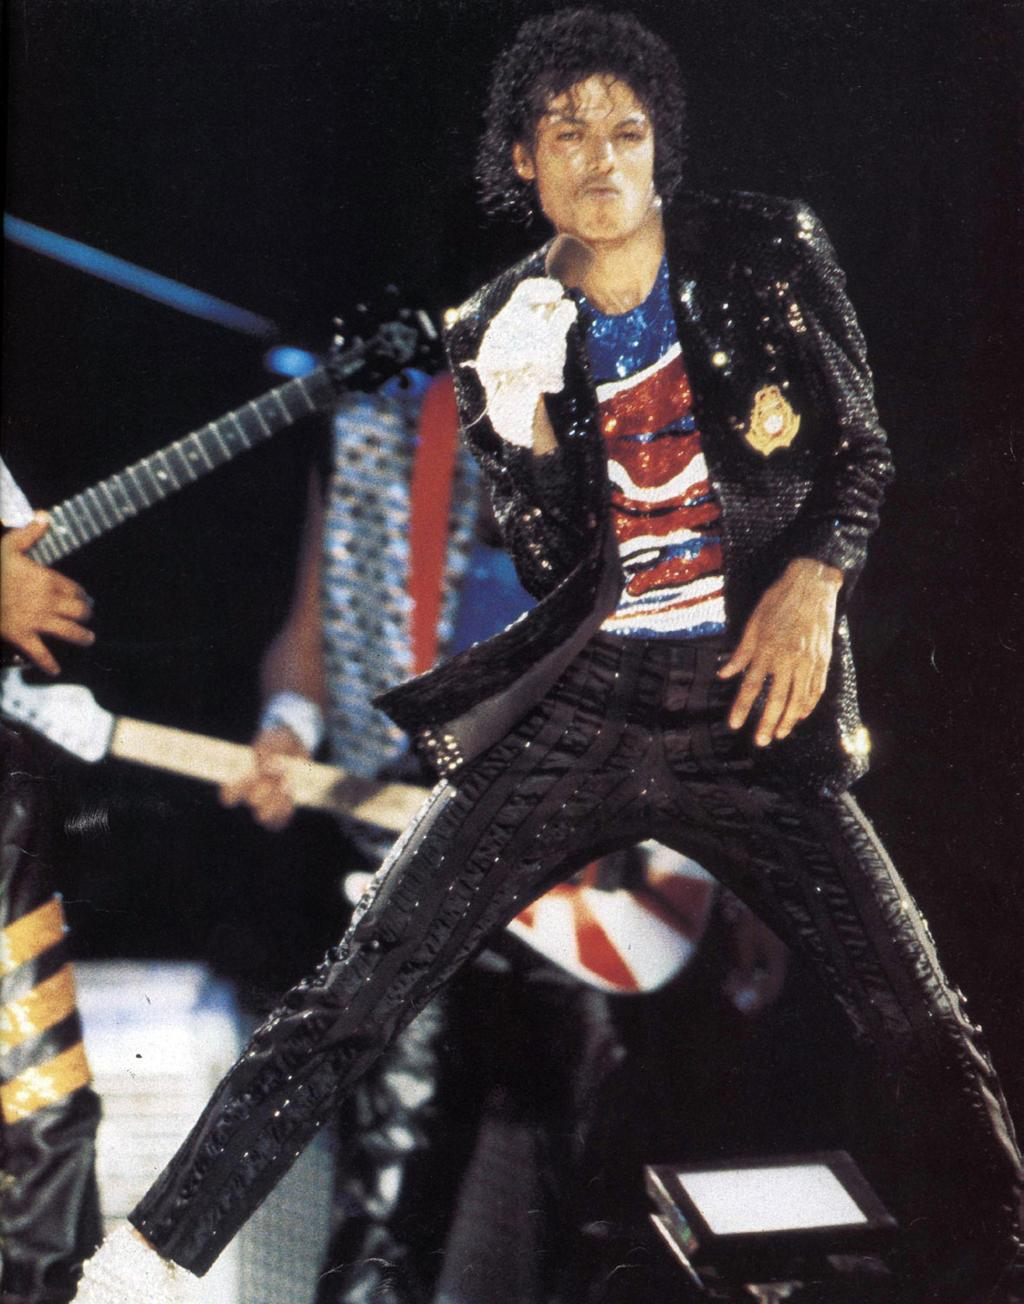face: (538, 70, 655, 238)
